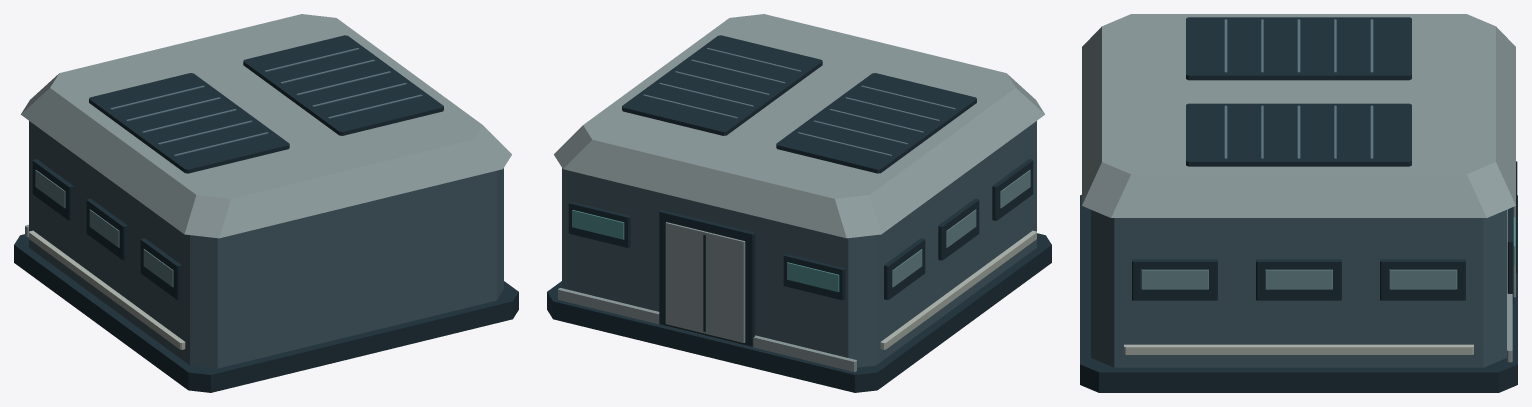
Rendered from habitat.glb.
3 renders of one model, left to right at view 1: azimuth 30°, elevation 25°; view 2: azimuth 150°, elevation 25°; view 3: azimuth 270°, elevation 25°, orthographic. The views are drawn at different scales.
Visible parts, largest first — view 1: habitat; view 2: habitat; view 3: habitat.
Part boxes in pixels (x1=…): habitat: x1=14, y1=14, x2=518, y2=392; habitat: x1=547, y1=14, x2=1051, y2=392; habitat: x1=1080, y1=14, x2=1517, y2=392.
Size of the model in its own units: 6 by 3.2 by 6.
